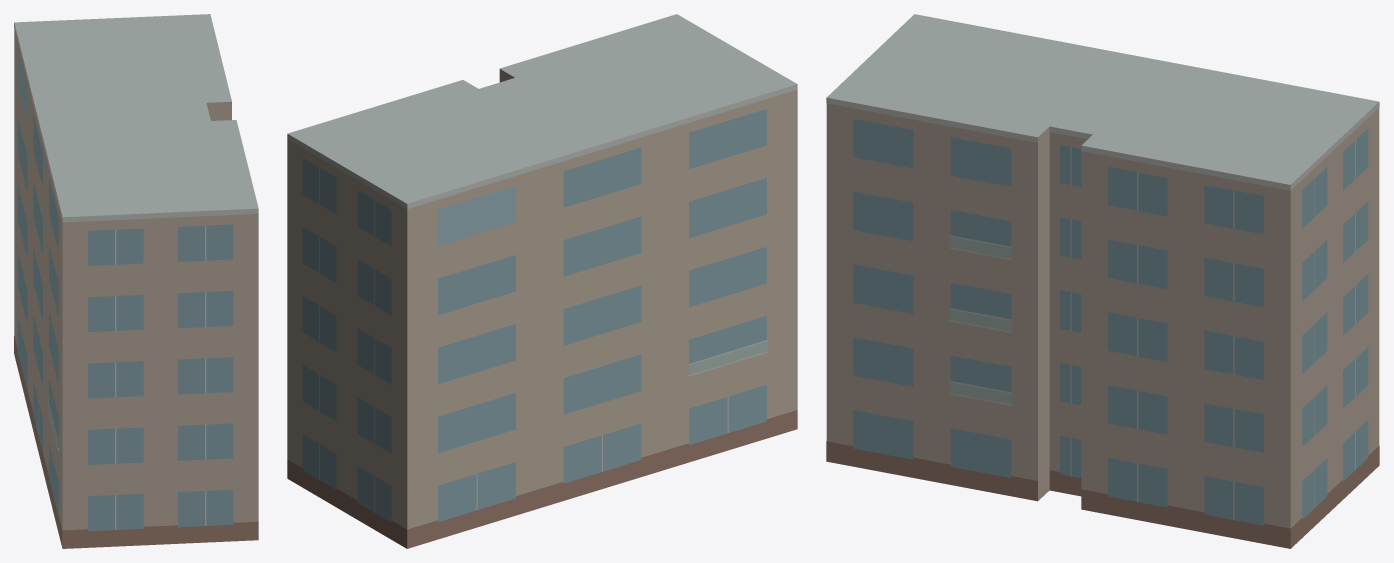
The model's file is survey-upis-32530220.glb.
The picture shows the model from 3 angles, left to right: view 1: azimuth 30°, elevation 25°; view 2: azimuth 150°, elevation 25°; view 3: azimuth 270°, elevation 25°; orthographic projection. The views are drawn at different scales.
Parts seen in each view (by area): view 1: survey-upis-32530220.tmp; view 2: survey-upis-32530220.tmp; view 3: survey-upis-32530220.tmp.
Boxes of the visible parts, <box> form: survey-upis-32530220.tmp: <box>14,14,258,548</box>; survey-upis-32530220.tmp: <box>287,14,797,548</box>; survey-upis-32530220.tmp: <box>826,14,1379,548</box>.
Bounding box in the file's own units: 15.72 × 15.6 × 21.49.
